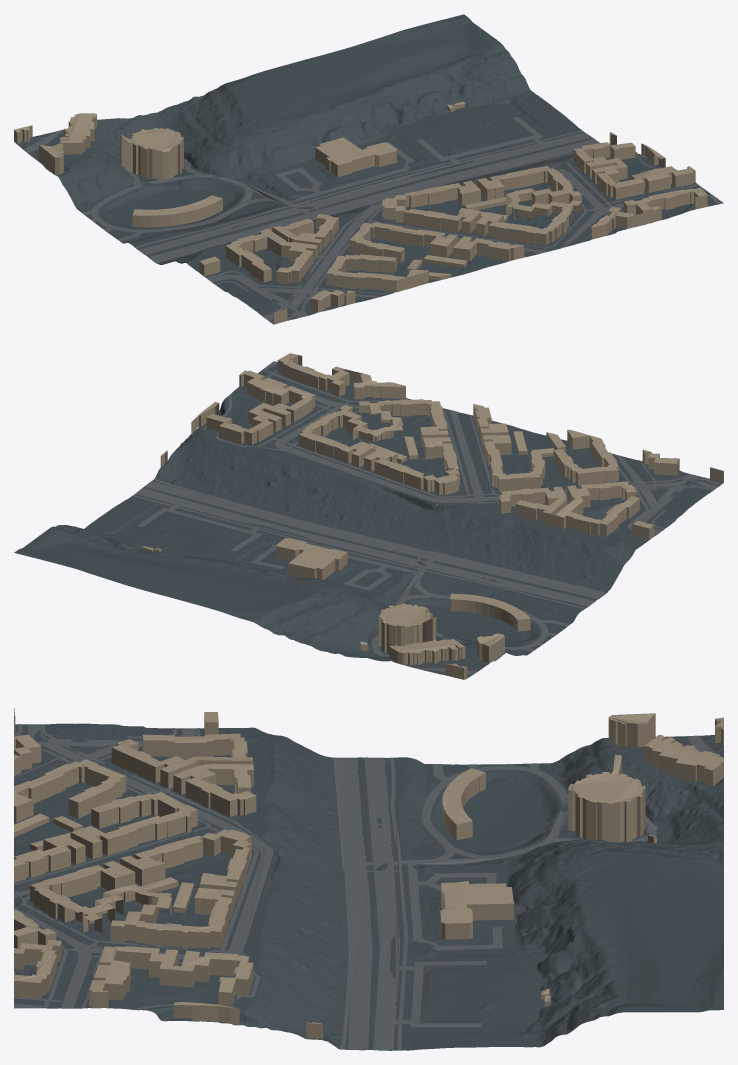
The model's file is epsg26910-1421-10870.lod0.glb.
The picture shows the model from 3 angles, top to bottom: view 1: azimuth 30°, elevation 25°; view 2: azimuth 150°, elevation 25°; view 3: azimuth 270°, elevation 25°; orthographic projection. The views are drawn at different scales.
Parts seen in each view (by area): view 1: epsg26910-1421-10870-lod0; view 2: epsg26910-1421-10870-lod0; view 3: epsg26910-1421-10870-lod0.
Part boxes in pixels (left/top/right/bottom): epsg26910-1421-10870-lod0: left=14, top=14, right=723, bottom=324; epsg26910-1421-10870-lod0: left=14, top=353, right=723, bottom=679; epsg26910-1421-10870-lod0: left=14, top=708, right=723, bottom=1050.
Size of the model in its own units: 384 by 45.2 by 384.
